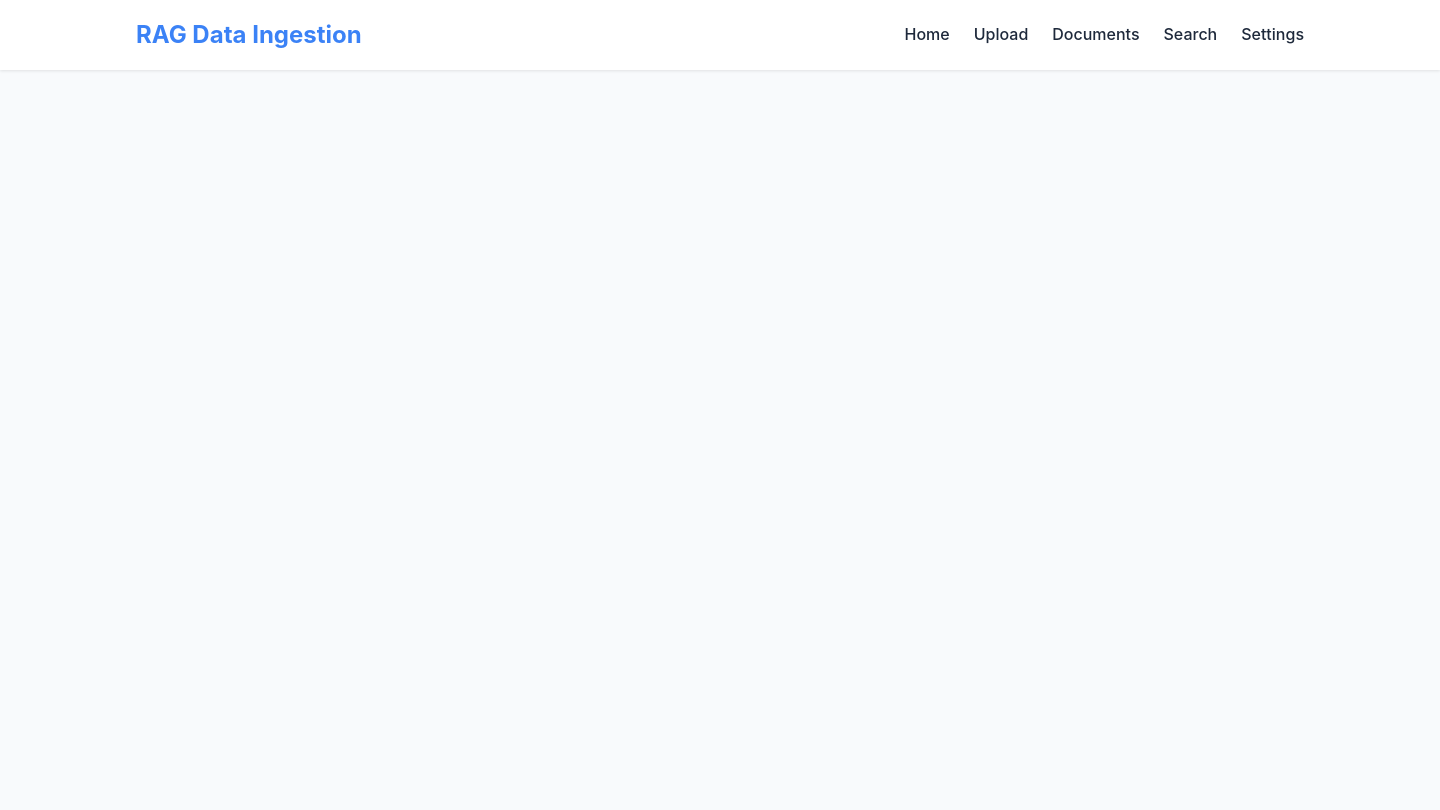
Test: Header with Settings › should close settings modal when close is requested
Open modal
Click the button "Settings". click: [1273, 34]
box: [1241,24,1304,44]
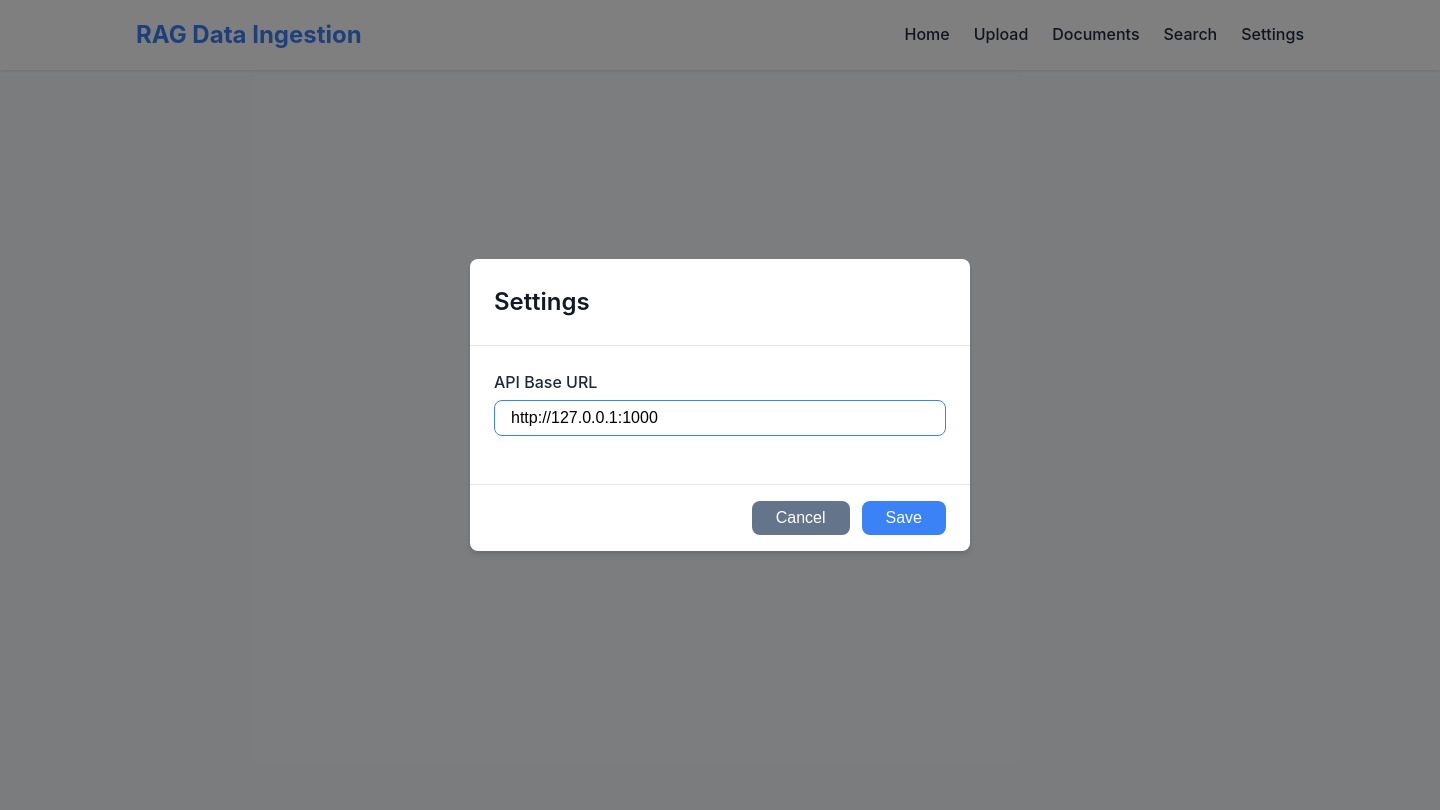
Expected: the dialog is shown, [470,259,970,551]
Close modal
Click the button "Cancel". click: [801, 518]
box: [752,501,850,535]
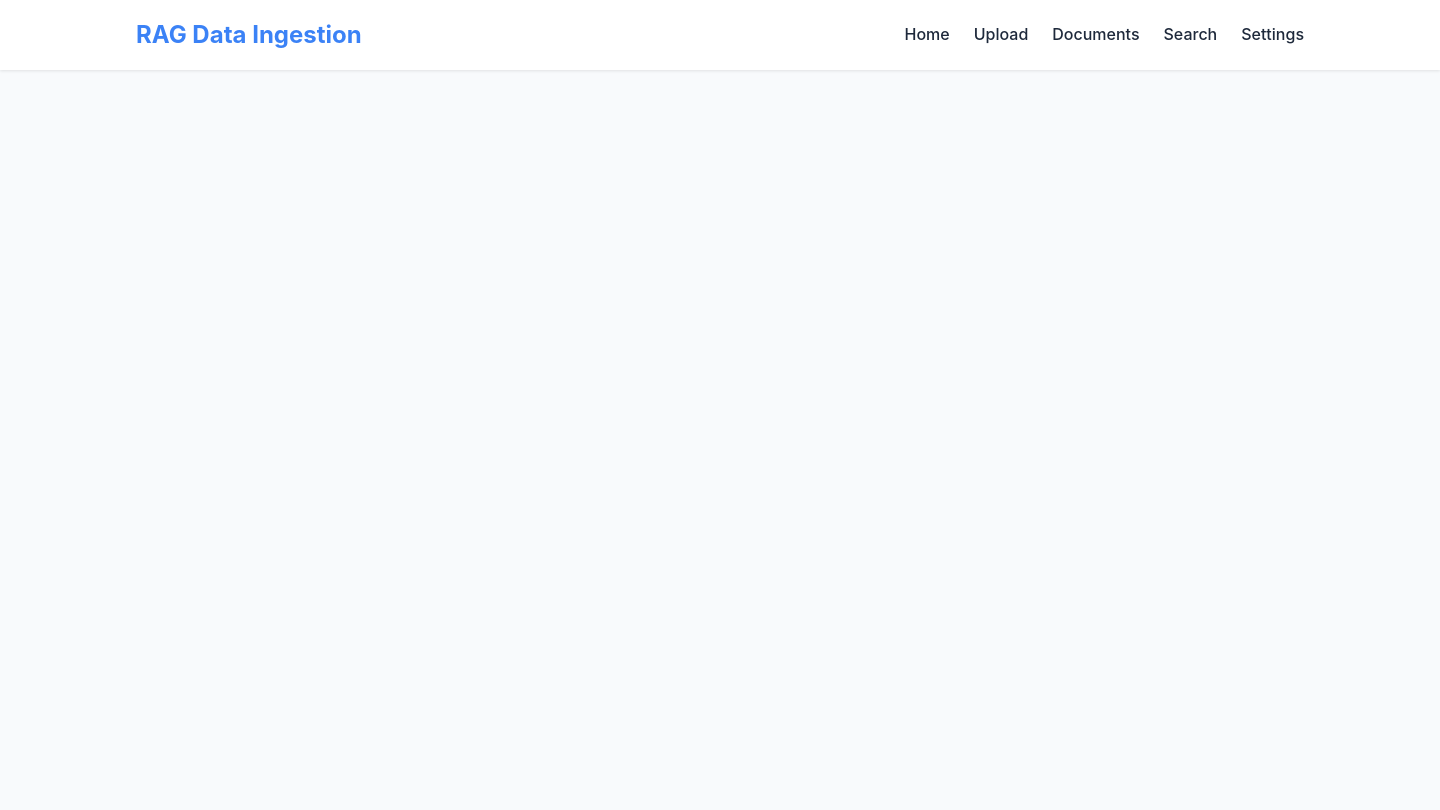
Expected: the dialog is gone
